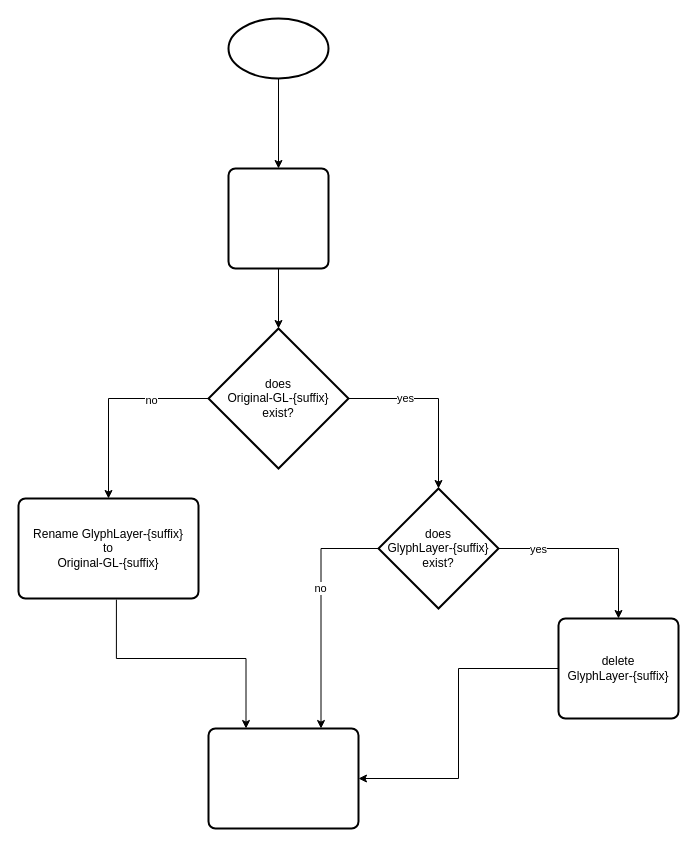
This 696x846 diagram has some shape labels left out. The centre of each missing label's shape, as x and y in pixels:
"copy Original-GL-{suffix} to GlyphLayer-{suffix}" belongs at point (283, 778).
"For each unique suffix of all the GlyphLayer- and Original-GL- layers" belongs at point (278, 218).
